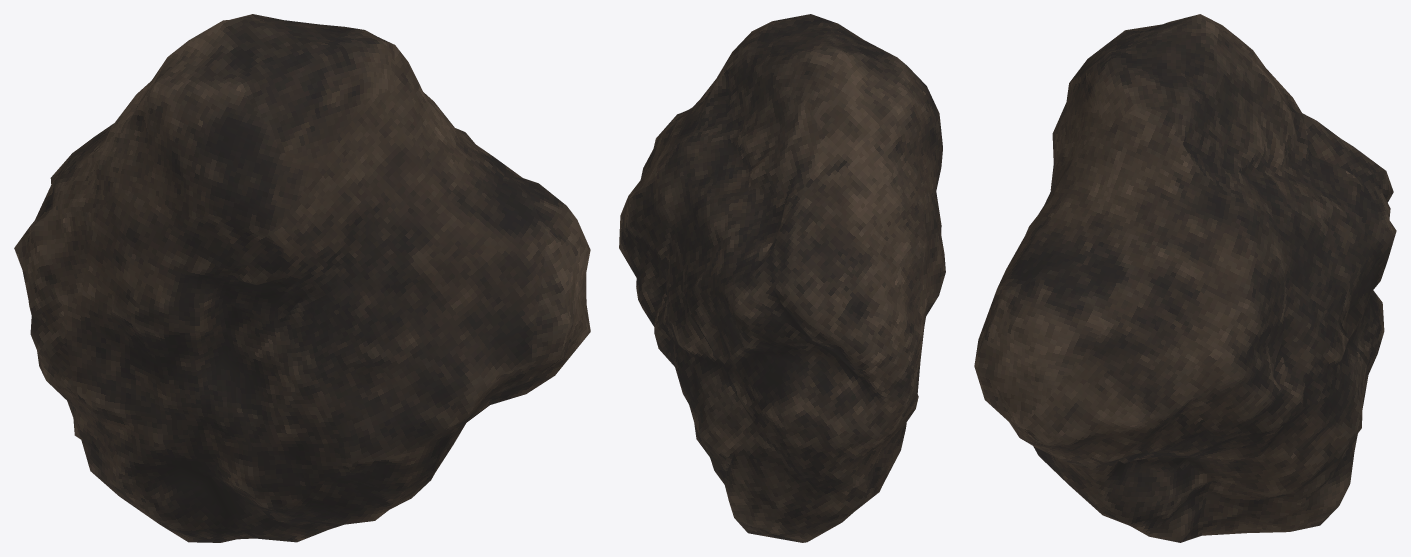
File: SM_RP2_Rock_4m_0.002.glb
The picture shows the model from 3 angles, left to right: view 1: azimuth 30°, elevation 25°; view 2: azimuth 150°, elevation 25°; view 3: azimuth 270°, elevation 25°; orthographic projection. The views are drawn at different scales.
Visible parts, largest first — view 1: SM_RP2_Rock_4m_0.002; view 2: SM_RP2_Rock_4m_0.002; view 3: SM_RP2_Rock_4m_0.002.
Boxes of the visible parts, x1,y1,x2,y2 form: SM_RP2_Rock_4m_0.002: (14,14,590,542); SM_RP2_Rock_4m_0.002: (619,14,945,542); SM_RP2_Rock_4m_0.002: (974,14,1396,542).
Size of the model in its own units: 6 by 7.47 by 5.64.
1 material, 1 textured.
